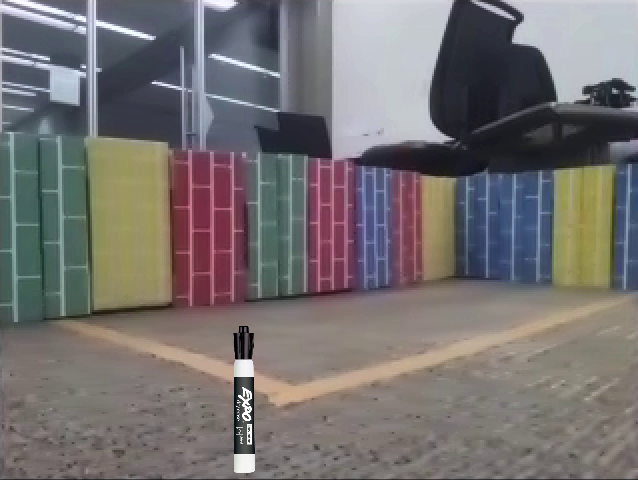bottle: (452, 261, 503, 445)
